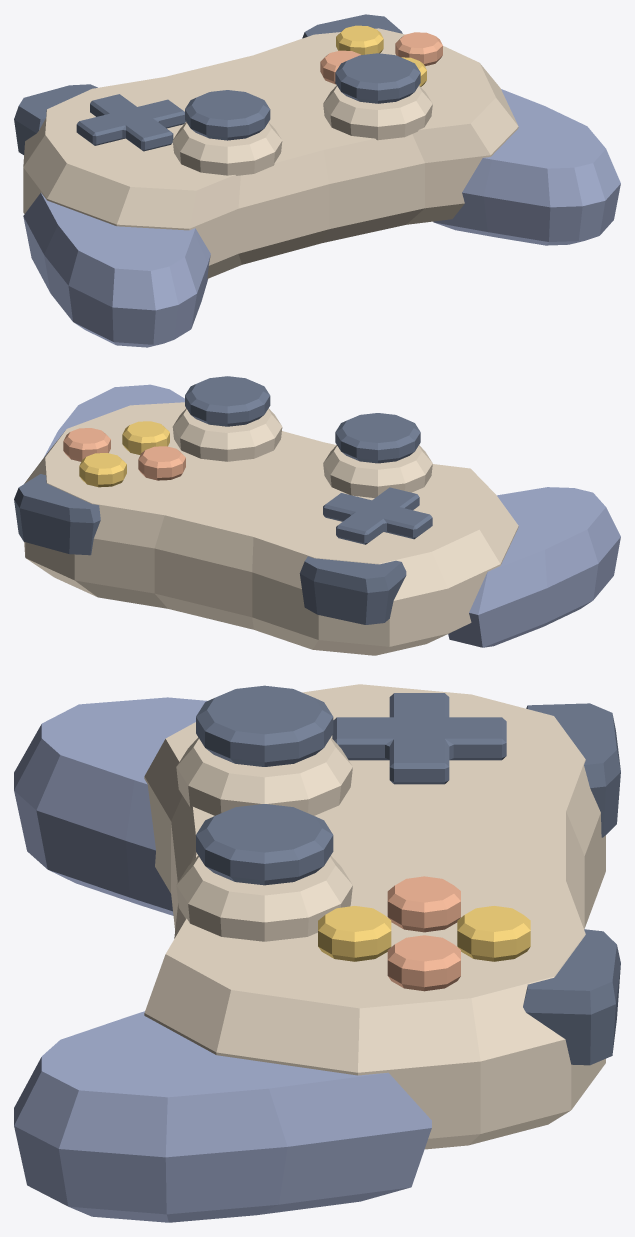
File: game-controller.glb
The picture shows the model from 3 angles, top to bottom: view 1: azimuth 30°, elevation 25°; view 2: azimuth 150°, elevation 25°; view 3: azimuth 270°, elevation 25°; orthographic projection. The views are drawn at different scales.
Parts seen in each view (by area): view 1: 03 米白摇杆基座 0.57; view 2: 03 米白摇杆基座 0.57; view 3: 03 米白摇杆基座 0.57.
Part boxes in pixels (left/top/right/bottom): 03 米白摇杆基座 0.57: left=14, top=14, right=620, bottom=347; 03 米白摇杆基座 0.57: left=14, top=376, right=620, bottom=655; 03 米白摇杆基座 0.57: left=14, top=684, right=620, bottom=1222.
Bounding box in the file's own units: 3.96 × 1.15 × 2.44.
